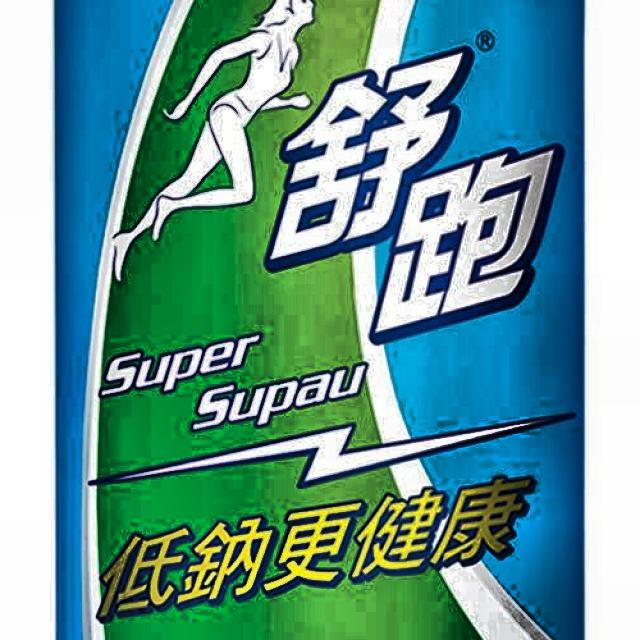metal: (40, 0, 598, 640)
